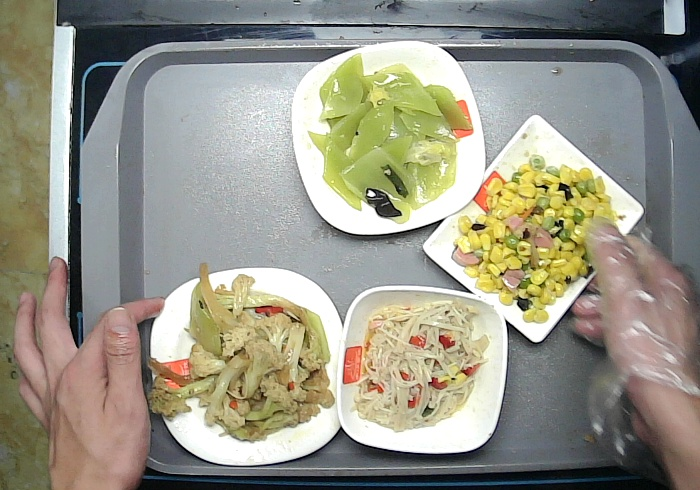SHKJ-Bai_Se_Cai_Die: (289, 39, 488, 236)
SHKJ-Bai_Se_Si_Fang_Cai_Die: (147, 264, 343, 467)
SHKJ-Bai_Se_Xiao_Fang_Die: (334, 284, 510, 455)
SHKJ-Si_Fang_Min: (420, 112, 645, 344)
